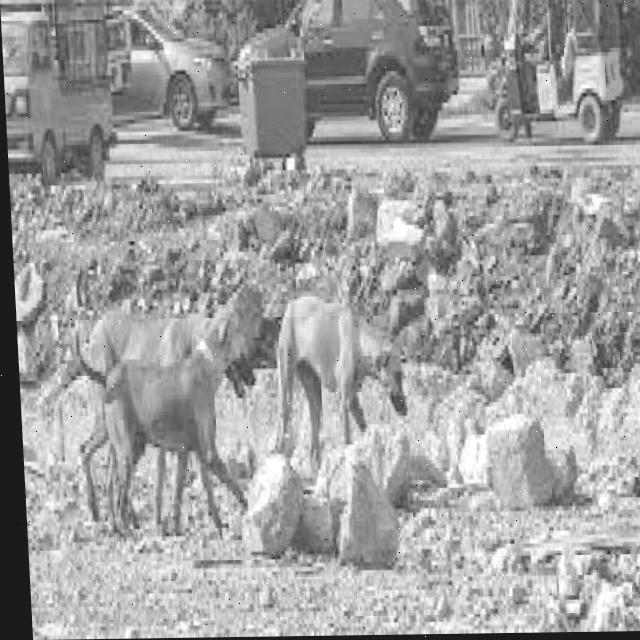Dog: (79, 278, 267, 548), (69, 324, 272, 522), (264, 281, 419, 485)
